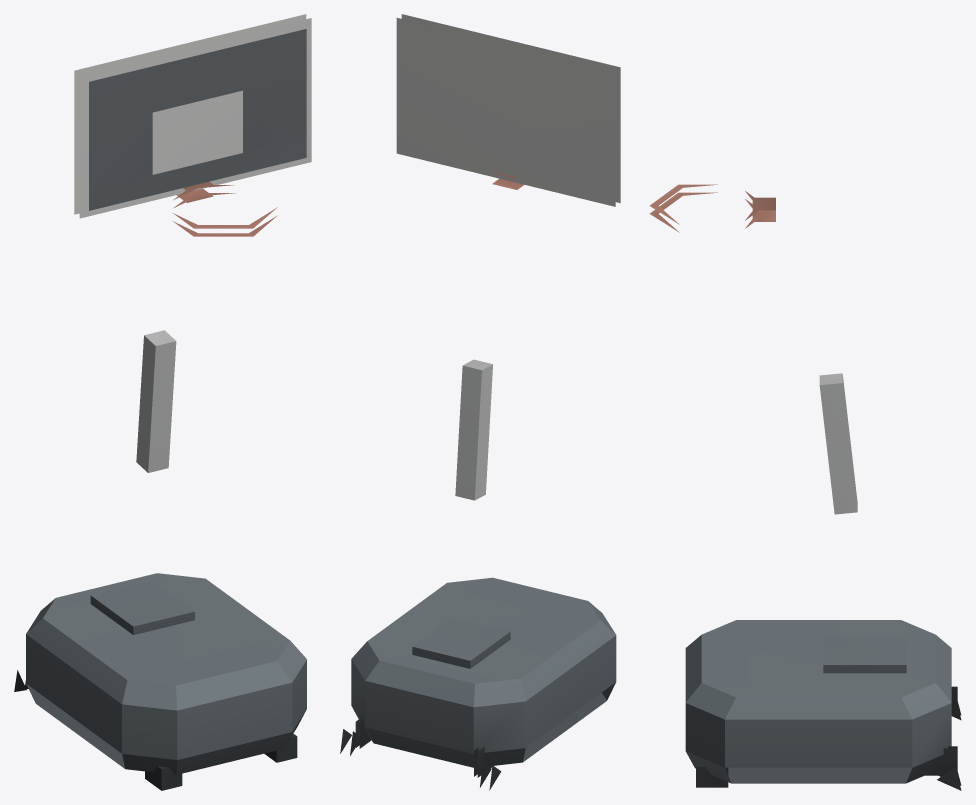
The model's file is hoop.lod.glb.
3 views of the same model, side by side, from view 1: azimuth 30°, elevation 25°; view 2: azimuth 150°, elevation 25°; view 3: azimuth 270°, elevation 25° (orthographic). The views are drawn at different scales.
Visible parts, largest first — view 1: hoop; view 2: hoop; view 3: hoop.
Part boxes in pixels (x1,y1,x2,y2): hoop: (14, 14, 311, 790); hoop: (340, 14, 620, 790); hoop: (649, 184, 961, 790).
Bounding box in the file's own units: 1.13 × 3.27 × 1.35.
